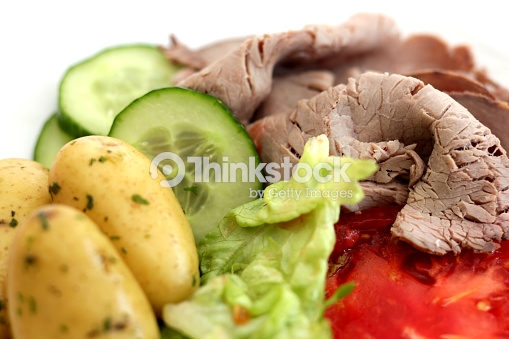boiled potatoes: (13, 164, 164, 311)
chopped lettuce: (219, 205, 312, 339)
